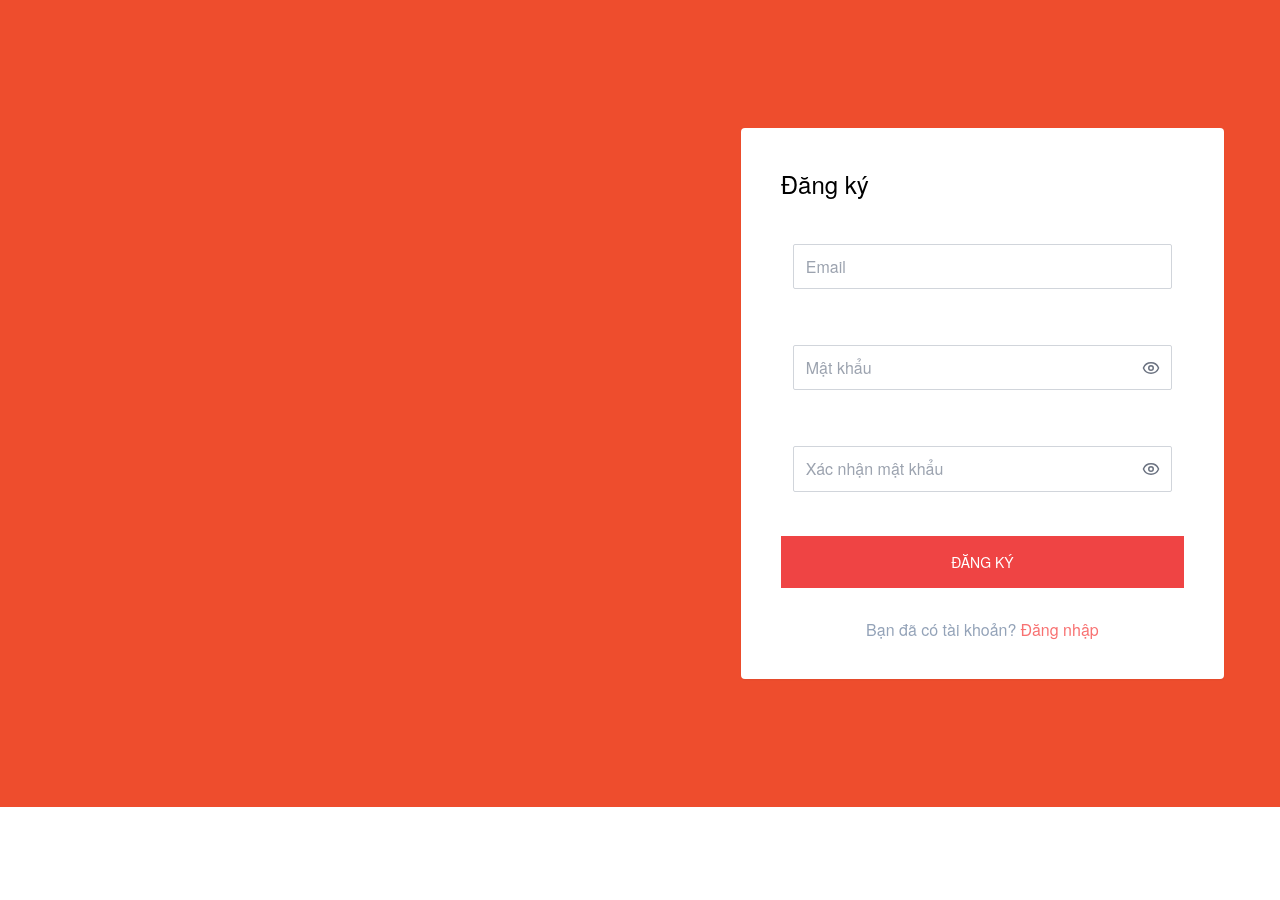
Test: Register page › shows validation error for empty password on submit
The image size is (1280, 900).
Step 1. Type "test@example.com" into the field with placeholder "Email" → (982, 267), box [793,244,1172,289]
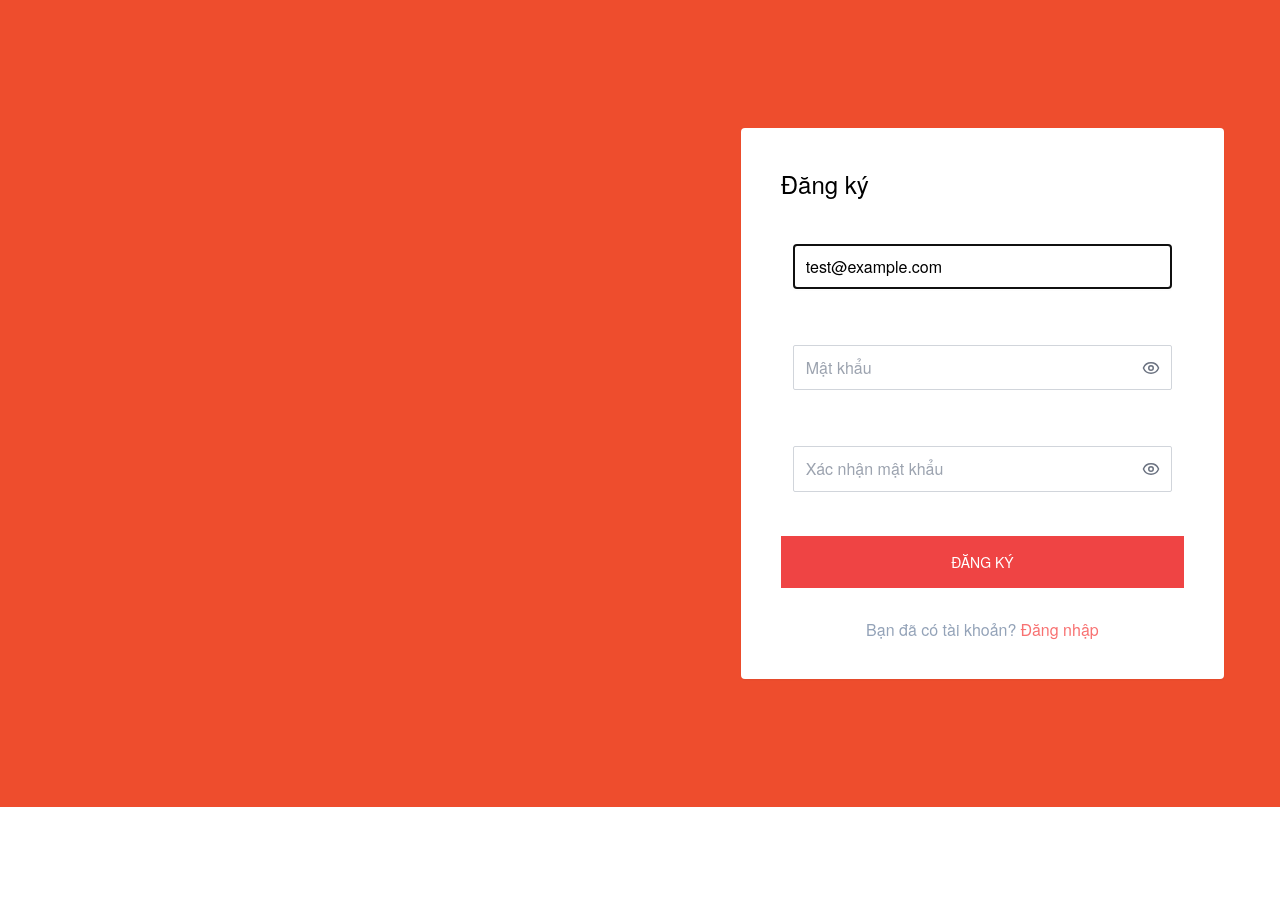
Step 2. Click the button "Đăng ký" → (982, 562), box [781,536,1184,588]
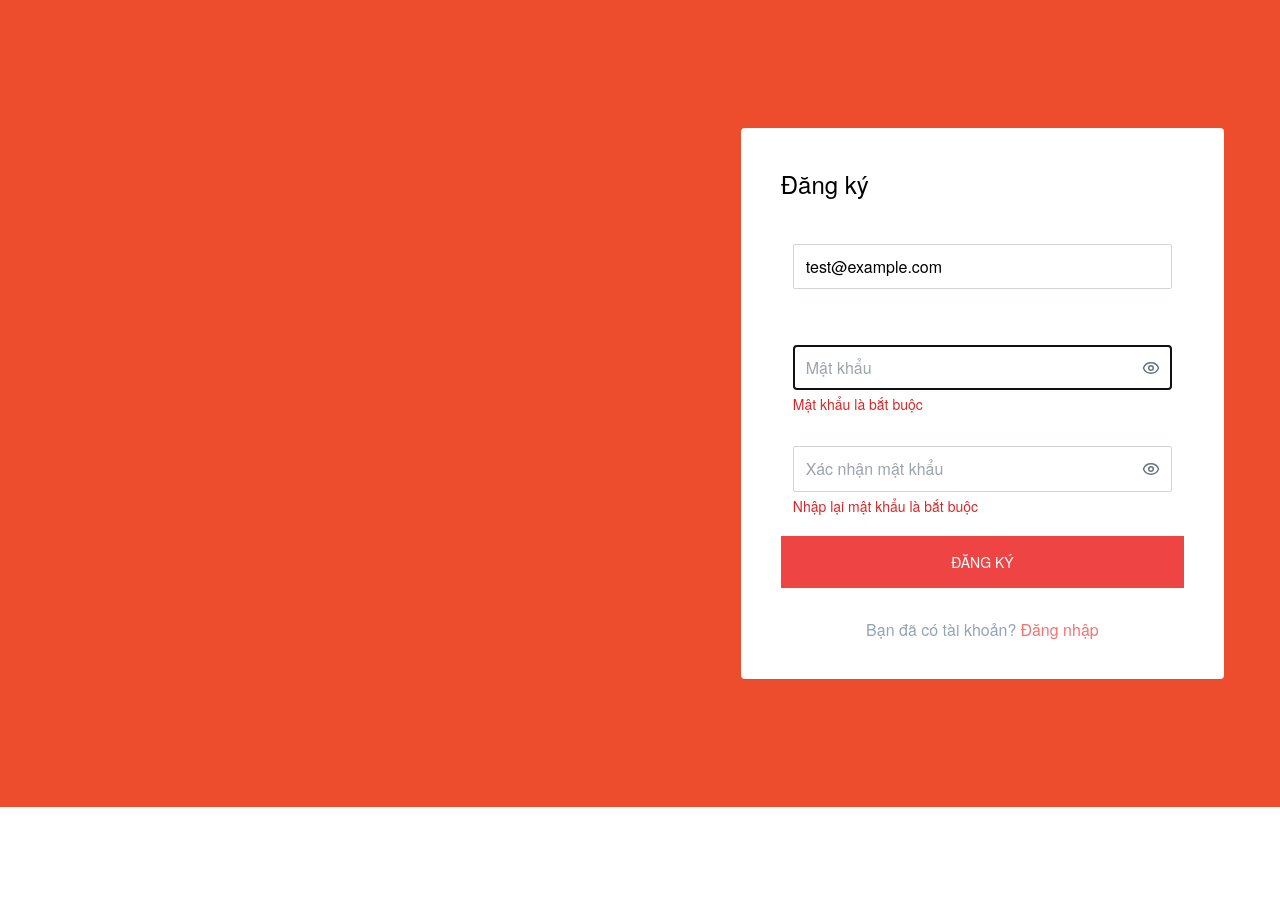
Check: the text "Mật khẩu là bắt buộc" is shown, box [793,394,923,414]
